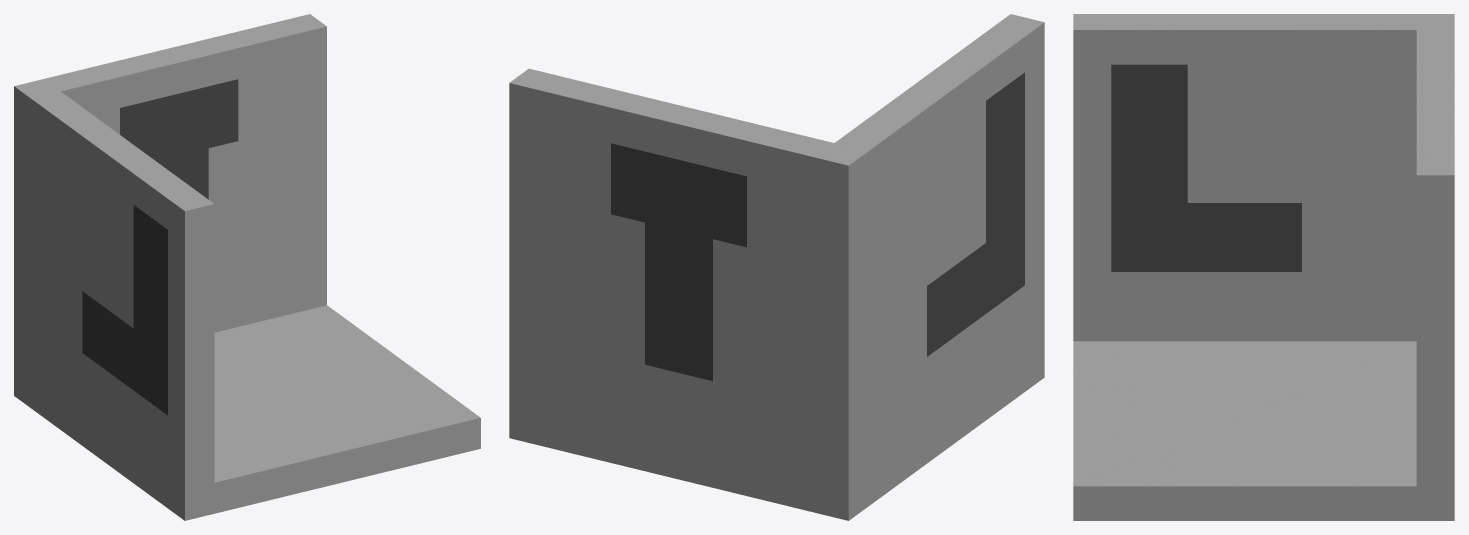
3 views of the same model, side by side, from view 1: azimuth 30°, elevation 25°; view 2: azimuth 150°, elevation 25°; view 3: azimuth 270°, elevation 25° (orthographic). The views are drawn at different scales.
Visible parts, largest first — view 1: BR; view 2: BR; view 3: BR.
Part boxes in pixels (box(x1,y1,x2,y2)): BR: box(14, 14, 480, 520); BR: box(509, 14, 1044, 520); BR: box(1073, 14, 1454, 520).
Bounding box in the file's own units: 10 × 10 × 10.
Materials: 1 (1 with a texture image).
